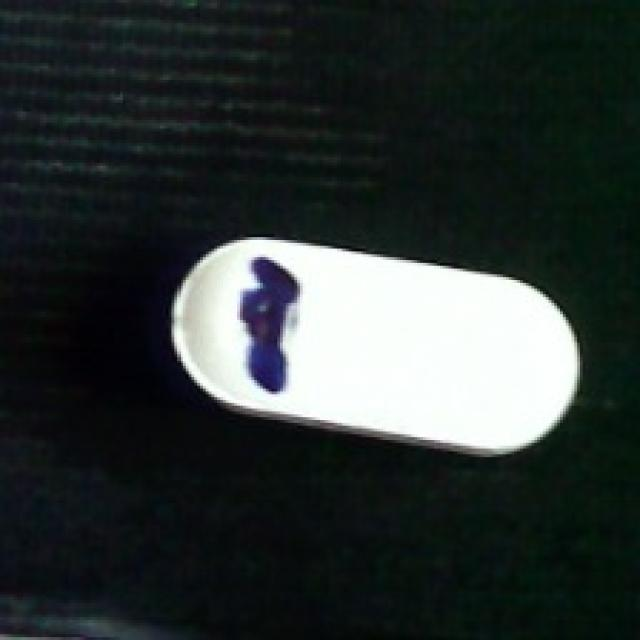defected: (154, 240, 589, 460)
